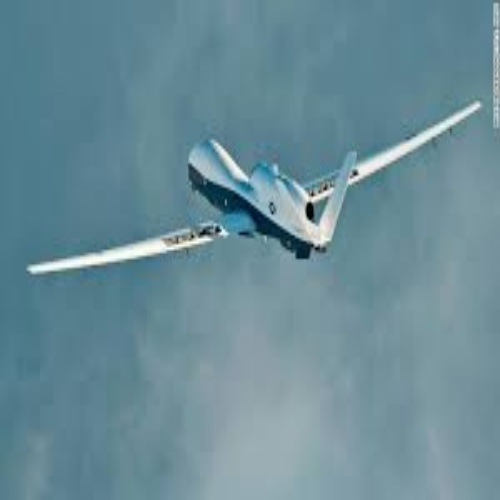uav542: (29, 99, 482, 273)
